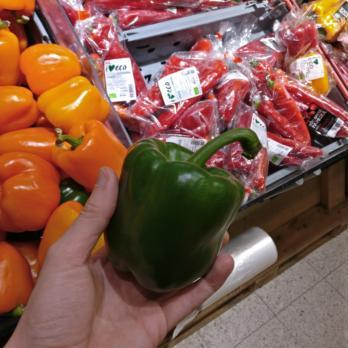Capsicum: (106, 136, 240, 292), (0, 1, 37, 301), (36, 43, 98, 182)
